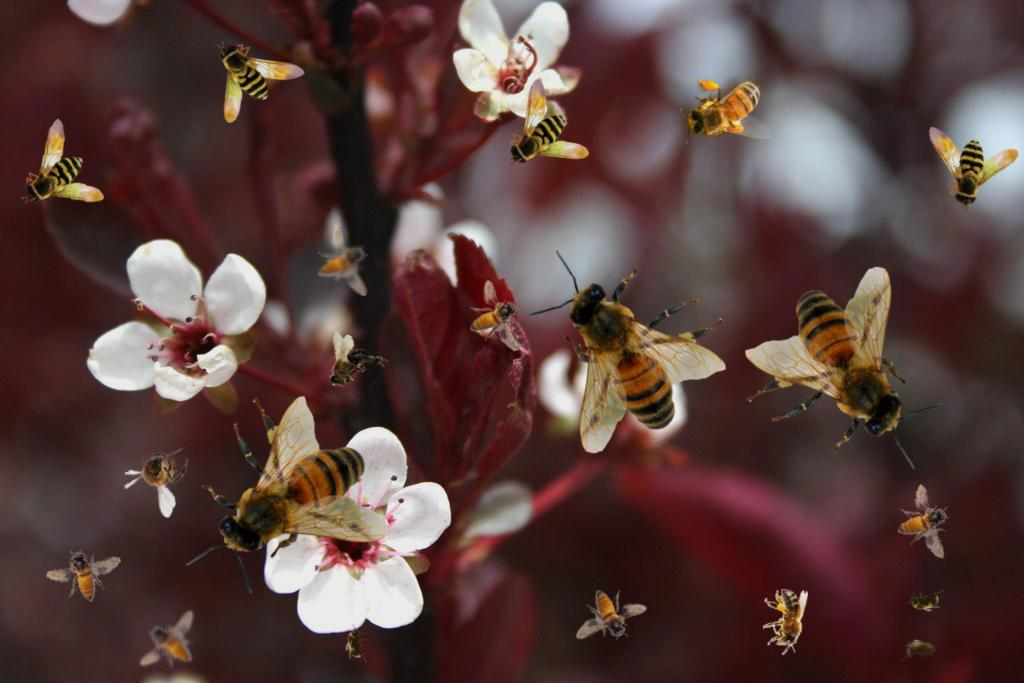Bee: (185, 396, 389, 595), (527, 250, 726, 454), (745, 266, 944, 470), (906, 93, 1024, 215), (21, 116, 109, 210), (114, 428, 201, 520), (507, 78, 589, 166), (217, 41, 305, 123), (126, 607, 212, 682), (680, 76, 773, 144), (310, 327, 391, 405), (42, 543, 122, 606), (894, 482, 954, 559), (318, 225, 368, 296), (470, 280, 520, 351), (576, 590, 647, 640), (763, 589, 808, 655), (901, 639, 941, 661), (904, 590, 944, 612), (345, 623, 367, 663)
